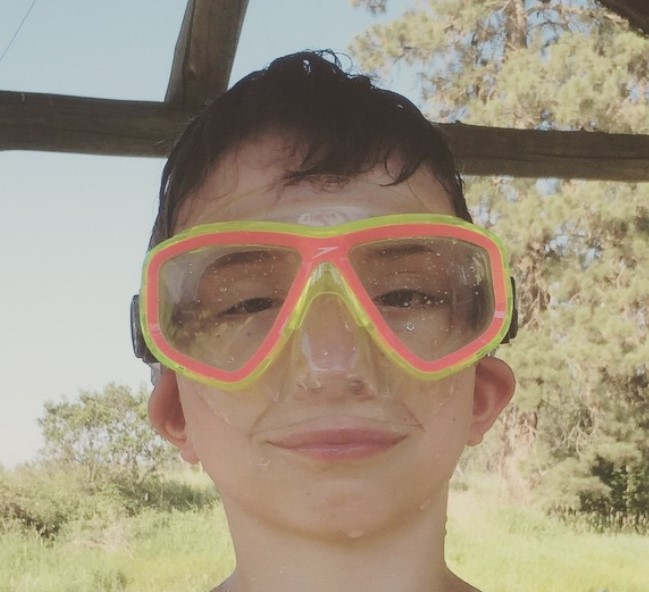face_no_mask: (170, 95, 482, 539)
